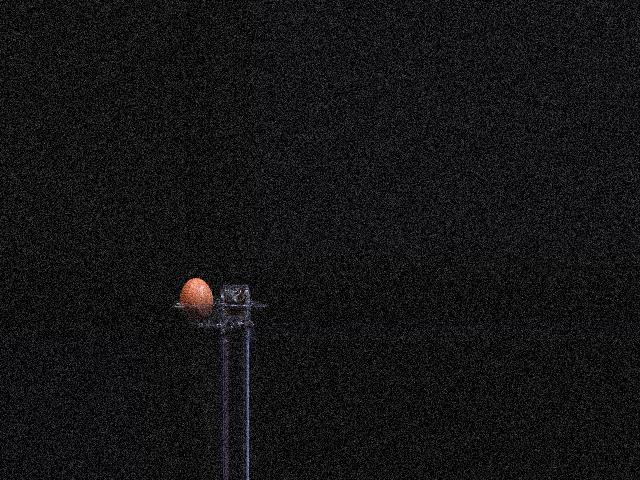egg: (178, 278, 212, 323)
